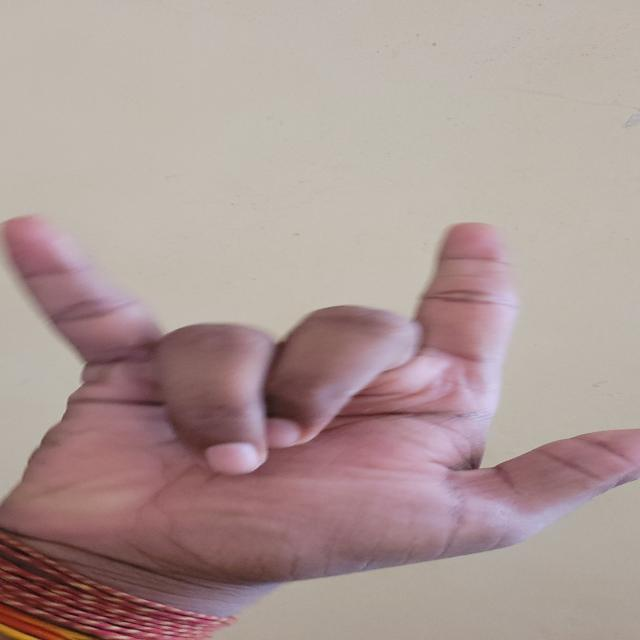i like you: (1, 179, 640, 639)
